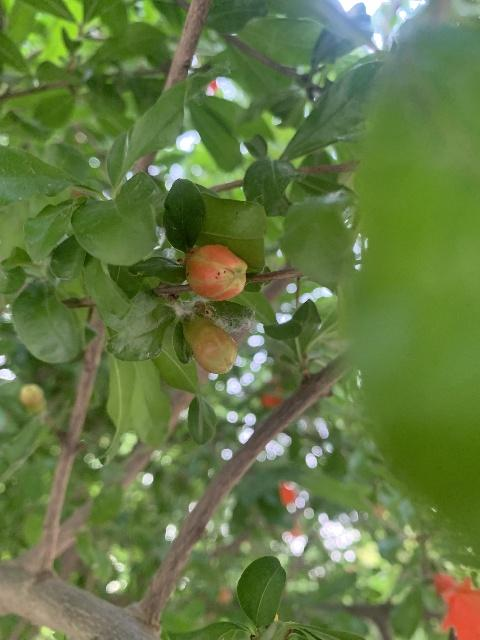bud: (185, 244, 247, 301), (181, 315, 237, 374)
flower: (433, 573, 480, 640)
